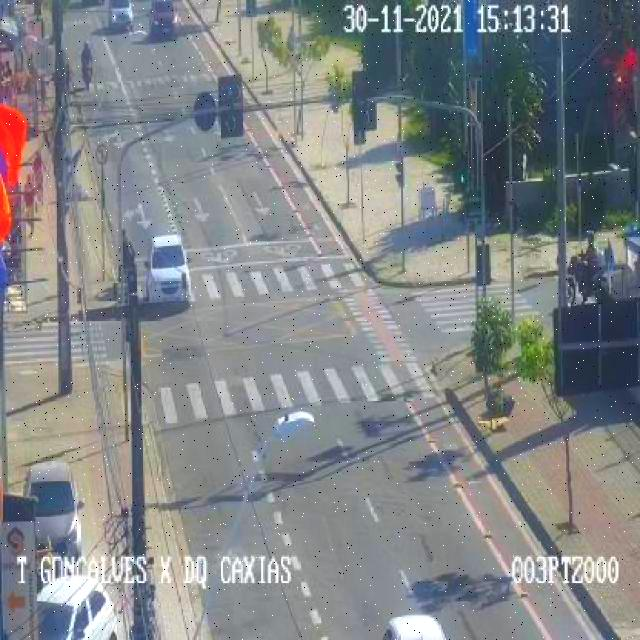car: (24, 462, 82, 572), (36, 574, 118, 640), (145, 234, 190, 302), (150, 2, 178, 48), (108, 0, 134, 28)
motorbike: (566, 230, 608, 306), (118, 228, 134, 304), (22, 173, 38, 238), (31, 150, 44, 212), (80, 39, 92, 90), (286, 26, 297, 66), (38, 72, 47, 112)
